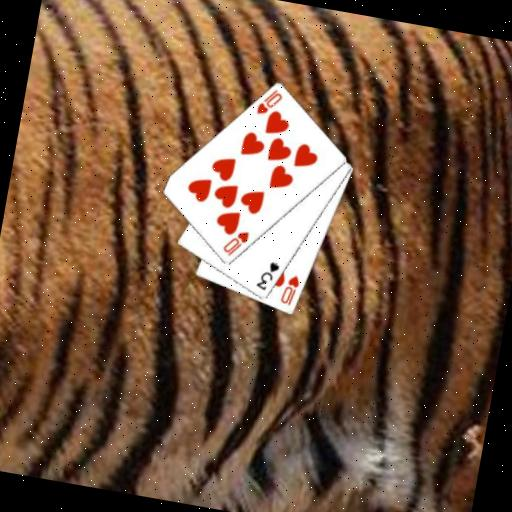10H: (218, 224, 251, 260), (252, 84, 285, 120), (277, 270, 303, 308)
3S: (252, 256, 281, 293)
